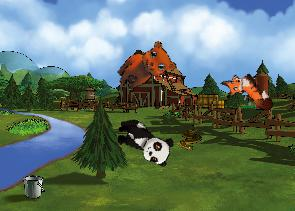bear: (111, 34, 181, 104)
fox: (217, 63, 276, 125)
panda: (110, 114, 177, 169)
